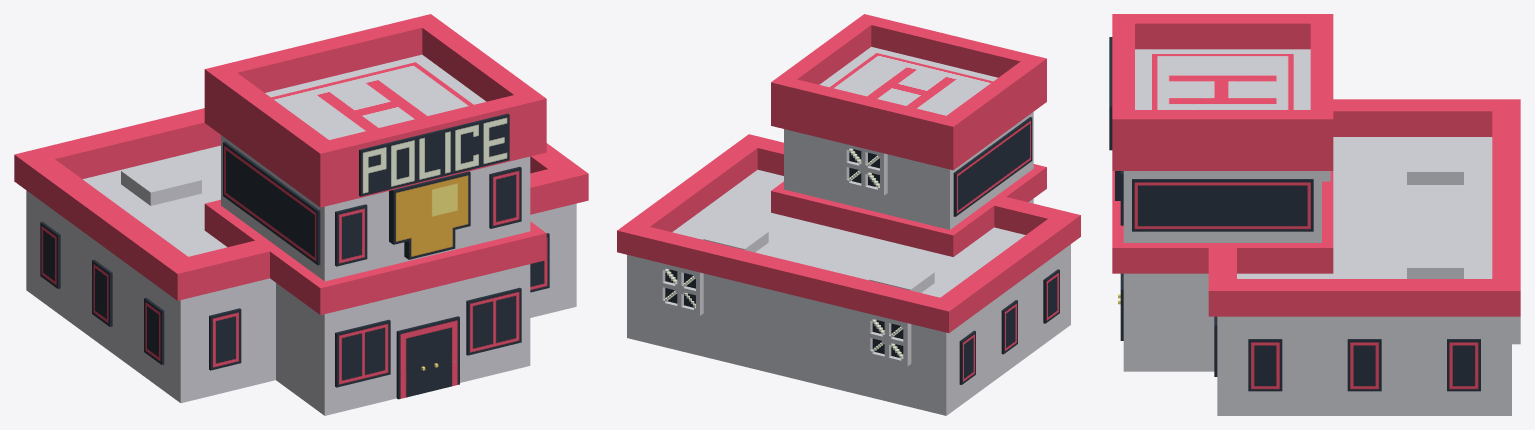
File: PoliceStation.fbx
3 views of the same model, side by side, from view 1: azimuth 30°, elevation 25°; view 2: azimuth 150°, elevation 25°; view 3: azimuth 270°, elevation 25° (orthographic). The views are drawn at different scales.
Parts seen in each view (by area): view 1: Object; view 2: Object; view 3: Object.
Part boxes in pixels (<box>): Object: <box>14,14,588,415</box>; Object: <box>617,14,1080,415</box>; Object: <box>1109,14,1520,415</box>.
Bounding box in the file's own units: 160 × 100 × 145.
